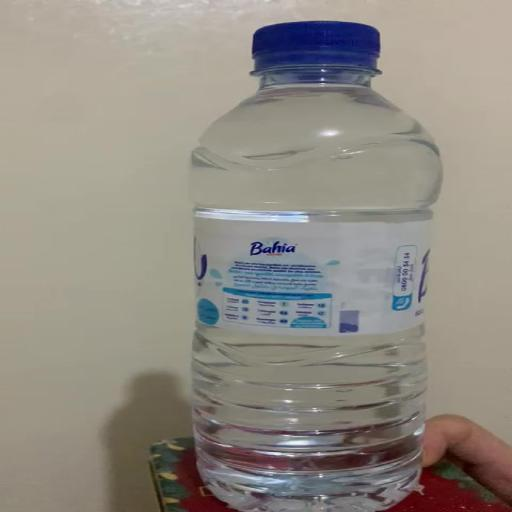bouteille conformite: (188, 15, 470, 512)
